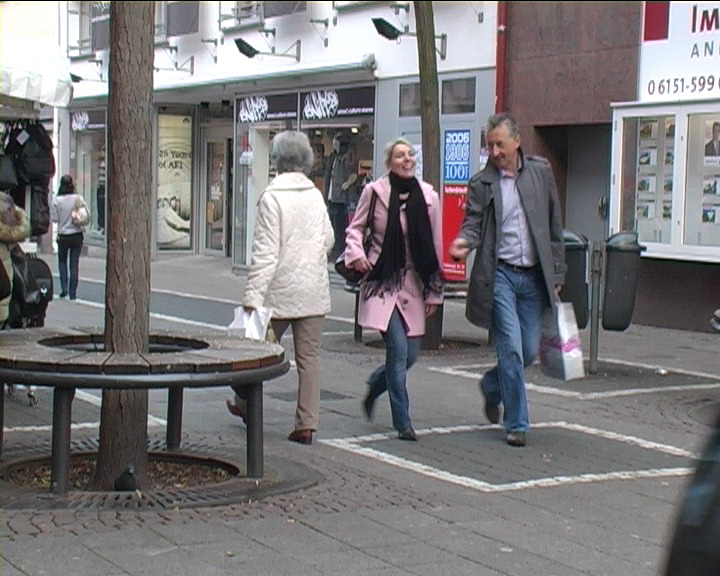deflection: (472, 111, 563, 199)
undeflect: (377, 134, 440, 211)
